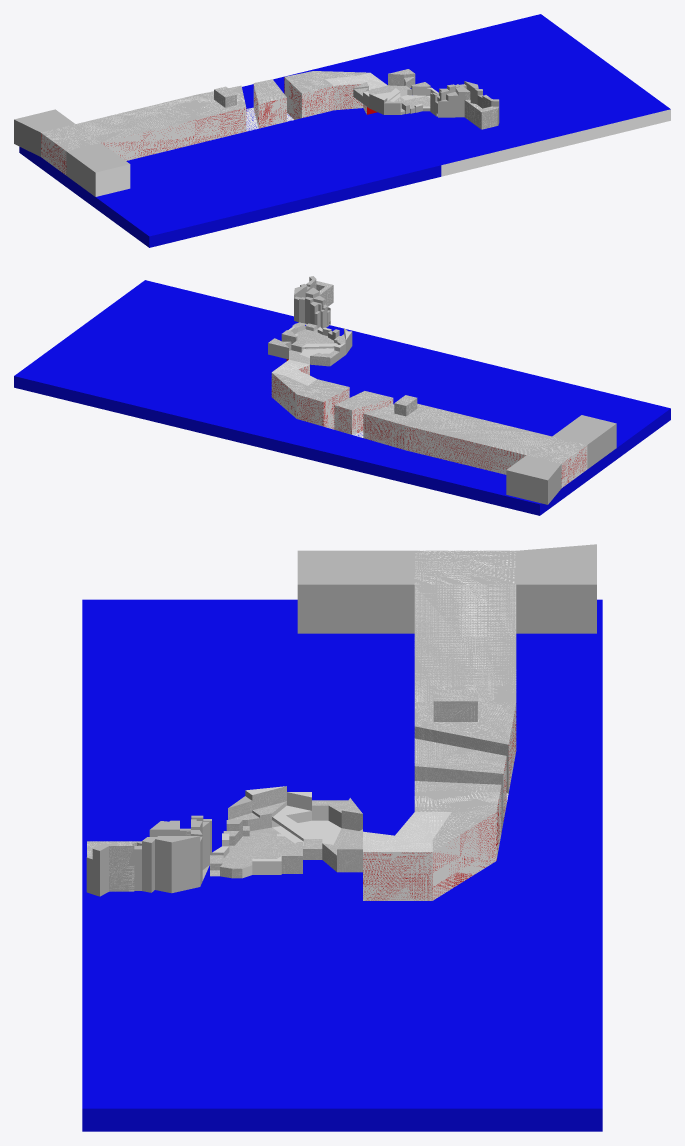
The model's file is Level 1.fbx.
3 renders of one model, top to bottom at view 1: azimuth 30°, elevation 25°; view 2: azimuth 150°, elevation 25°; view 3: azimuth 270°, elevation 25°, orthographic. The views are drawn at different scales.
Visible parts, largest first — view 1: SketchUp.022, SketchUp.033, SketchUp.034, SketchUp.023, SketchUp, SketchUp.025, SketchUp.035, SketchUp.019, SketchUp.042, SketchUp.029, SketchUp.011, SketchUp.028 (+2 smaller); view 2: SketchUp.022, SketchUp.033, SketchUp.026, SketchUp.025, SketchUp, SketchUp.029, SketchUp.019, SketchUp.034, SketchUp.011, SketchUp.002, SketchUp.018, SketchUp.028 (+3 smaller); view 3: SketchUp.022, SketchUp.033, SketchUp.025, SketchUp, SketchUp.019, SketchUp.028, SketchUp.002, SketchUp.003, SketchUp.035, SketchUp.011, SketchUp.018, SketchUp.027.
Boxes of the visible parts, x1=… form: SketchUp.022: x1=19, y1=14, x2=670, y2=247; SketchUp.033: x1=14, y1=85, x2=245, y2=196; SketchUp.034: x1=41, y1=107, x2=246, y2=175; SketchUp.023: x1=441, y1=109, x2=670, y2=176; SketchUp: x1=353, y1=81, x2=482, y2=117; SketchUp.025: x1=284, y1=77, x2=377, y2=119; SketchUp.035: x1=464, y1=92, x2=499, y2=129; SketchUp.019: x1=285, y1=71, x2=369, y2=93; SketchUp.042: x1=95, y1=164, x2=130, y2=196; SketchUp.029: x1=253, y1=84, x2=286, y2=128; SketchUp.011: x1=354, y1=69, x2=415, y2=94; SketchUp.028: x1=253, y1=79, x2=286, y2=103; SketchUp.022: x1=14, y1=280, x2=670, y2=515; SketchUp.033: x1=363, y1=403, x2=616, y2=504; SketchUp.026: x1=363, y1=413, x2=525, y2=474; SketchUp.025: x1=271, y1=359, x2=349, y2=429; SketchUp: x1=294, y1=284, x2=352, y2=365; SketchUp.029: x1=334, y1=398, x2=393, y2=434; SketchUp.019: x1=272, y1=372, x2=348, y2=401; SketchUp.034: x1=561, y1=445, x2=587, y2=487; SketchUp.011: x1=268, y1=338, x2=330, y2=366; SketchUp.002: x1=296, y1=328, x2=345, y2=349; SketchUp.018: x1=272, y1=359, x2=316, y2=385; SketchUp.028: x1=335, y1=391, x2=392, y2=410; SketchUp.022: x1=82, y1=599, x2=602, y2=1131; SketchUp.033: x1=297, y1=544, x2=596, y2=793; SketchUp.025: x1=363, y1=787, x2=501, y2=900; SketchUp: x1=134, y1=790, x2=252, y2=893; SketchUp.019: x1=414, y1=781, x2=501, y2=851; SketchUp.028: x1=414, y1=738, x2=506, y2=833; SketchUp.002: x1=223, y1=786, x2=294, y2=862; SketchUp.003: x1=272, y1=792, x2=341, y2=850; SketchUp.035: x1=86, y1=841, x2=141, y2=896; SketchUp.011: x1=303, y1=798, x2=362, y2=872; SketchUp.018: x1=363, y1=812, x2=451, y2=851; SketchUp.027: x1=433, y1=690, x2=477, y2=721.
Size of the model in its own units: 911910 by 101212 by 388935.
